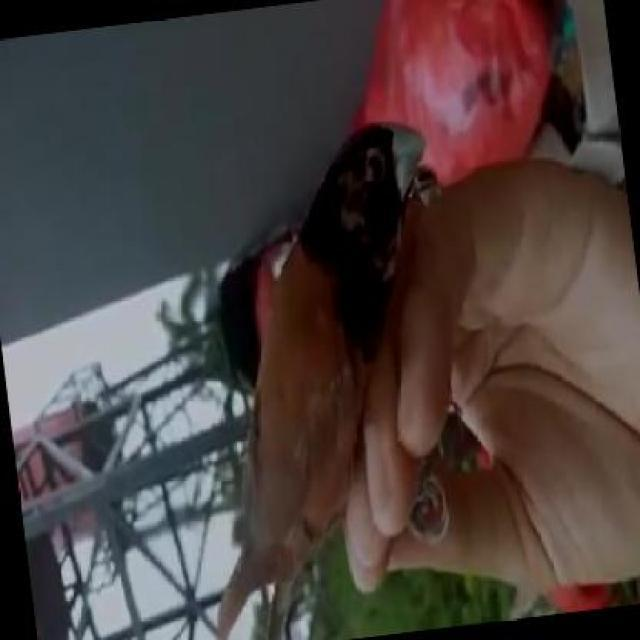Bird: (209, 119, 429, 636)
